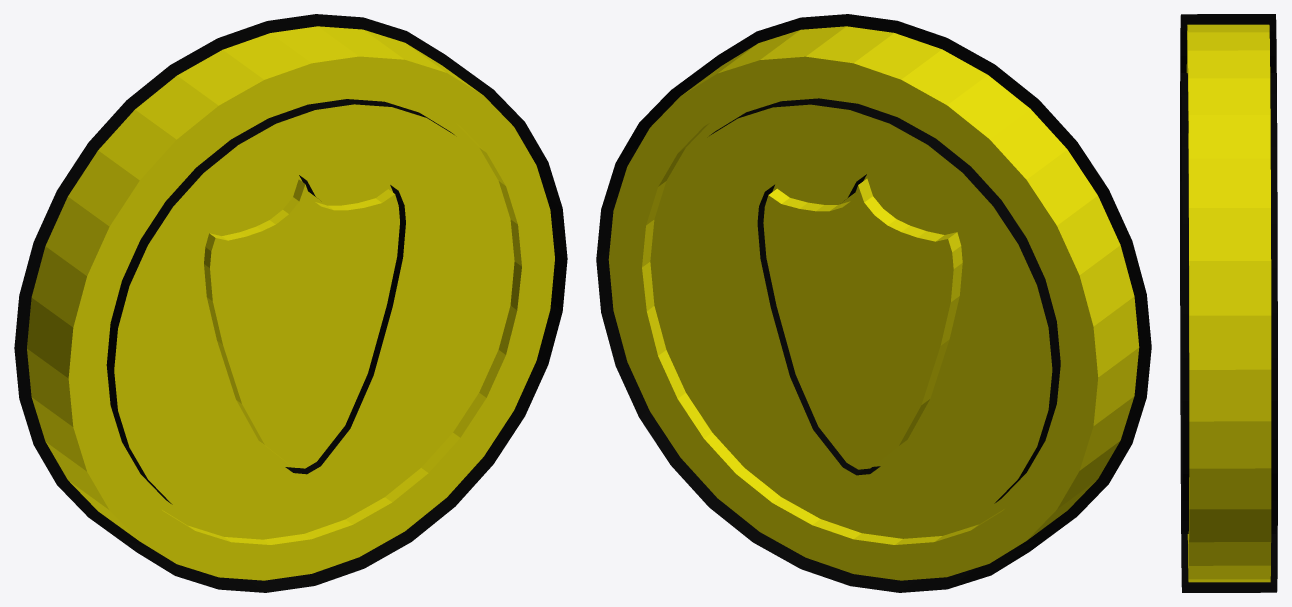
File: monedaEscudo.fbx
The picture shows the model from 3 angles, left to right: view 1: azimuth 30°, elevation 25°; view 2: azimuth 150°, elevation 25°; view 3: azimuth 270°, elevation 25°; orthographic projection.
Parts seen in each view (by area): view 1: Cylinder, Plane.002; view 2: Cylinder, Plane.002; view 3: Cylinder.
Part boxes in pixels (x1,y1,x2,y2): Cylinder: [14, 14, 567, 592]; Plane.002: [204, 175, 405, 474]; Cylinder: [596, 14, 1151, 592]; Plane.002: [757, 174, 962, 475]; Cylinder: [1180, 14, 1277, 592].
Bounding box in the file's own units: 95.9 × 95.82 × 16.2.
